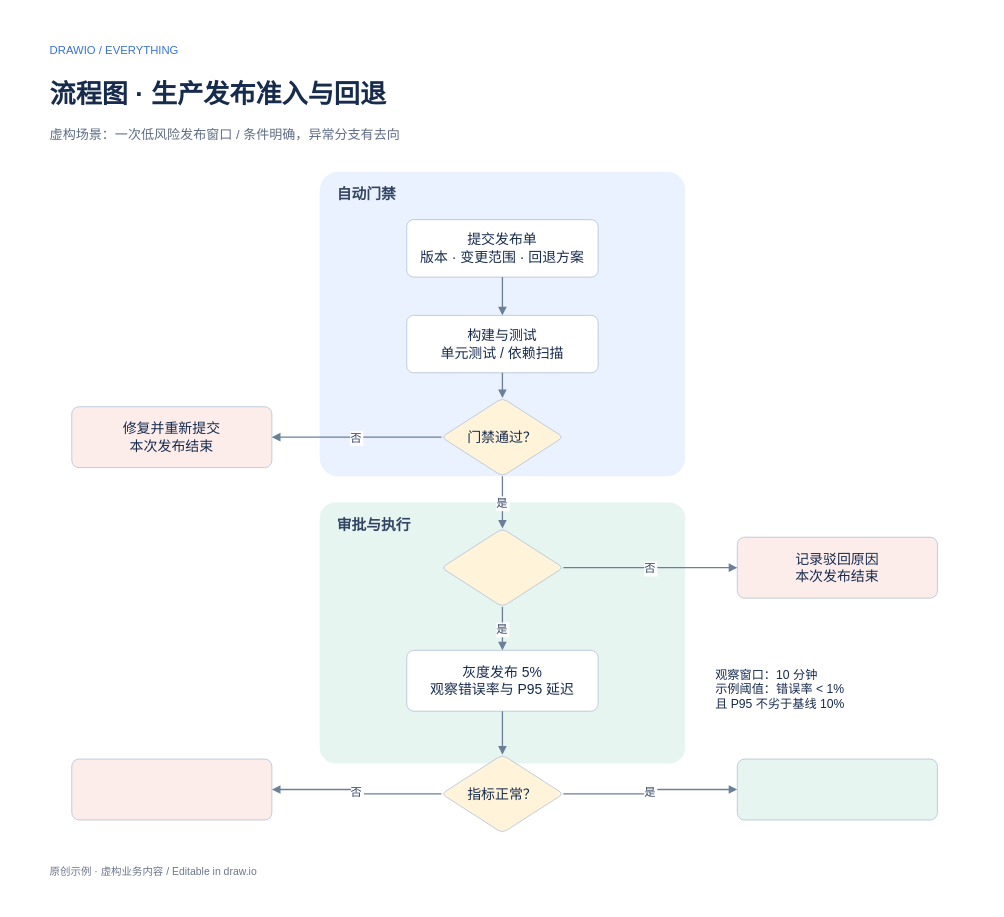
Some shapes in this 1004 by 917 pixel diagram are drawn without their labels. Here are the shapes that lost their labels. From the top down, the centre of each, then its label:
point 502,567: 负责人批准？
point 171,789: 回退到上一稳定版本 通知值班 · 留存审计
point 836,789: 全量发布 · 留存审计 发布完成
